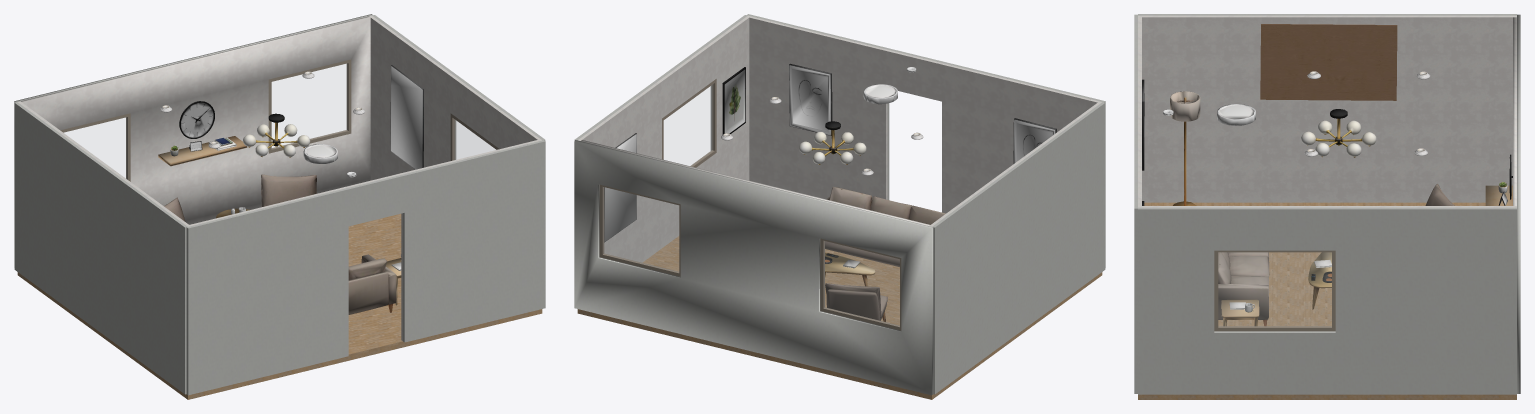
Rendered from scene_named.glb.
The picture shows the model from 3 angles, left to right: view 1: azimuth 30°, elevation 25°; view 2: azimuth 150°, elevation 25°; view 3: azimuth 270°, elevation 25°; orthographic projection. The views are drawn at different scales.
Parts seen in each view (by area): view 1: south_wall_exterior_living_room/south_wall_exterior_living_r, north_wall_living_room/north_wall_living_room/geometry_0, west_wall_exterior_living_room/west_wall_exterior_living_roo, east_wall_living_room/east_wall_living_room/geometry_0, floor_living_room, window_2_living_room/window_2_living_room/glass, mirror_0, sofa_0, window_1_living_room/window_1_living_room/glass, lounge_chair_1, window_2_living_room/window_2_living_room/frame, chandelier_0 (+9 smaller); view 2: north_wall_exterior_living_room/north_wall_exterior_living_r, south_wall_living_room/south_wall_living_room/geometry_0, west_wall_exterior_living_room/west_wall_exterior_living_roo, east_wall_living_room/east_wall_living_room/geometry_0, floor_living_room, window_2_living_room/window_2_living_room/glass, window_1_living_room/window_1_living_room/glass, window_3_living_room/window_3_living_room/glass, art_print_0, sofa_0, lounge_chair_0, mirror_0 (+12 smaller); view 3: east_wall_exterior_living_room/east_wall_exterior_living_roo, west_wall_living_room/west_wall_living_room/geometry_0, painting_0, window_3_living_room/window_3_living_room/glass, floor_living_room, sofa_0, window_3_living_room/window_3_living_room/frame, north_wall_exterior_living_room/north_wall_exterior_living_r, south_wall_exterior_living_room/south_wall_exterior_living_r, chandelier_0, floor_lamp_0, east_wall_living_room/east_wall_living_room/geometry_0 (+8 smaller).
Part boxes in pixels (x1,y1,x2,y2): south_wall_exterior_living_room/south_wall_exterior_living_r: (186,140,545,395); north_wall_living_room/north_wall_living_room/geometry_0: (21,16,370,224); west_wall_exterior_living_room/west_wall_exterior_living_roo: (14,102,187,394); east_wall_living_room/east_wall_living_room/geometry_0: (369,15,541,180); floor_living_room: (17,213,542,399); window_2_living_room/window_2_living_room/glass: (272,64,347,148); mirror_0: (390,65,423,169); sofa_0: (348,254,396,314); window_1_living_room/window_1_living_room/glass: (65,117,126,178); lounge_chair_1: (261,174,316,206); window_2_living_room/window_2_living_room/frame: (268,59,351,153); chandelier_0: (243,113,310,157); north_wall_exterior_living_room/north_wall_exterior_living_r: (574,140,933,395); south_wall_living_room/south_wall_living_room/geometry_0: (749,16,1098,213); west_wall_exterior_living_room/west_wall_exterior_living_roo: (932,102,1105,394); east_wall_living_room/east_wall_living_room/geometry_0: (578,15,750,262); floor_living_room: (577,236,1102,399); window_2_living_room/window_2_living_room/glass: (603,187,678,271); window_1_living_room/window_1_living_room/glass: (824,241,899,325); window_3_living_room/window_3_living_room/glass: (664,85,712,165); art_print_0: (789,63,832,135); sofa_0: (825,186,945,267); lounge_chair_0: (825,283,887,321); mirror_0: (604,133,636,242); east_wall_exterior_living_room/east_wall_exterior_living_roo: (1138,207,1516,394); west_wall_living_room/west_wall_living_room/geometry_0: (1138,15,1516,202); painting_0: (1260,24,1397,100); window_3_living_room/window_3_living_room/glass: (1218,252,1331,326); floor_living_room: (1138,202,1516,399); sofa_0: (1218,252,1269,326); window_3_living_room/window_3_living_room/frame: (1214,250,1335,331); north_wall_exterior_living_room/north_wall_exterior_living_r: (1517,14,1520,393); south_wall_exterior_living_room/south_wall_exterior_living_r: (1134,14,1137,393); chandelier_0: (1301,109,1376,157); floor_lamp_0: (1170,91,1200,205); east_wall_living_room/east_wall_living_room/geometry_0: (1138,206,1516,207).
Bounding box in the file's own units: 6.1 × 2.8 × 5.1.
33 materials, 31 textured.
